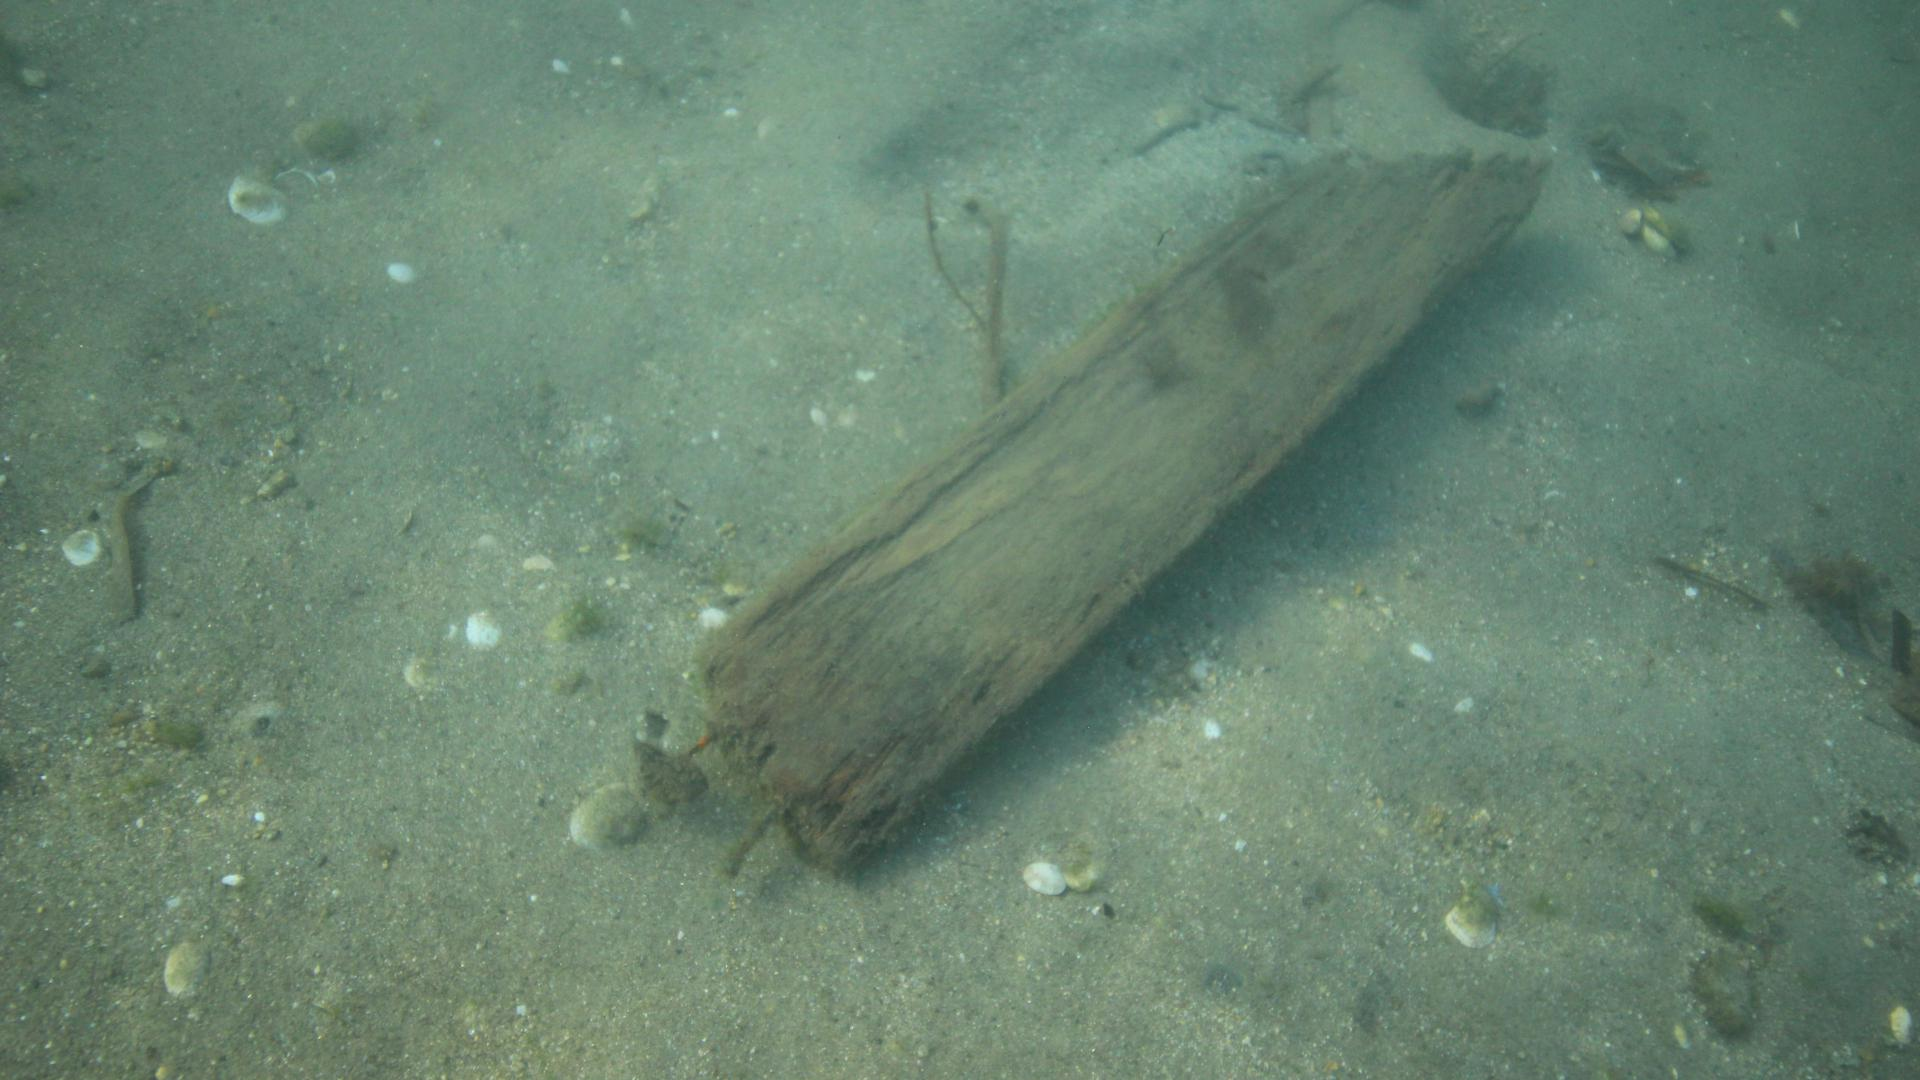wood: (703, 148, 1555, 882)
